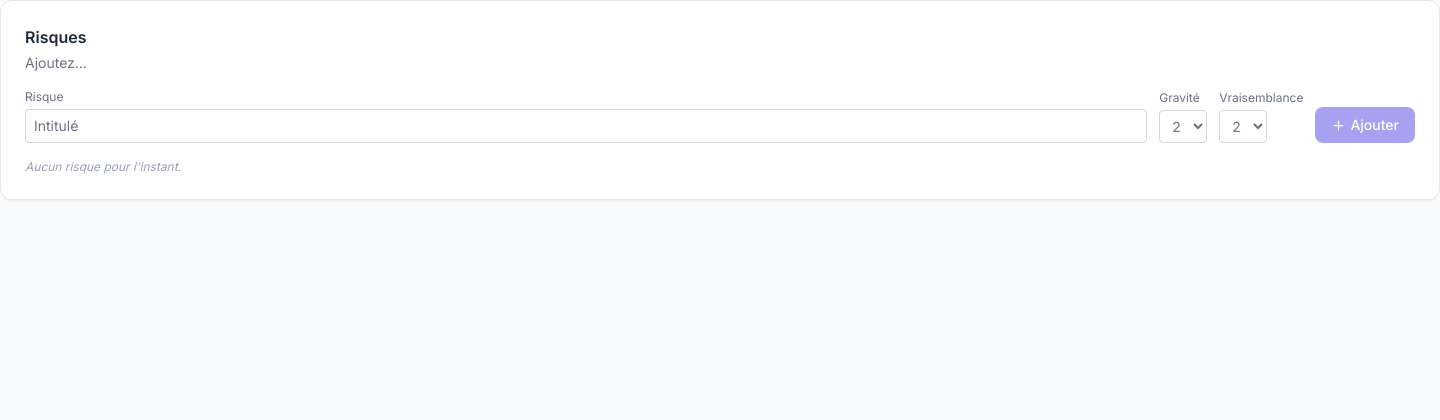
Test case: RisquesDirects › ajoute un risque (POST) puis recharge
Expected: the text "Aucun risque pour l'instant." is shown, [25,159,181,174]
Type "Fuite de données" into the field with placeholder "Intitulé" at (586, 126), box [25,109,1147,143]
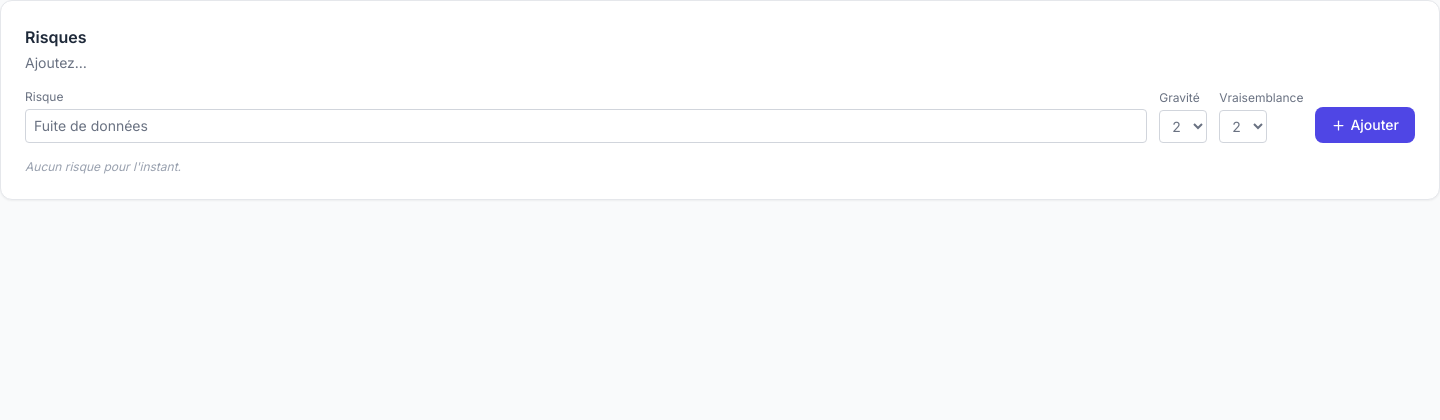
Click the button "Ajouter" at (1365, 125), box [1315,107,1415,143]
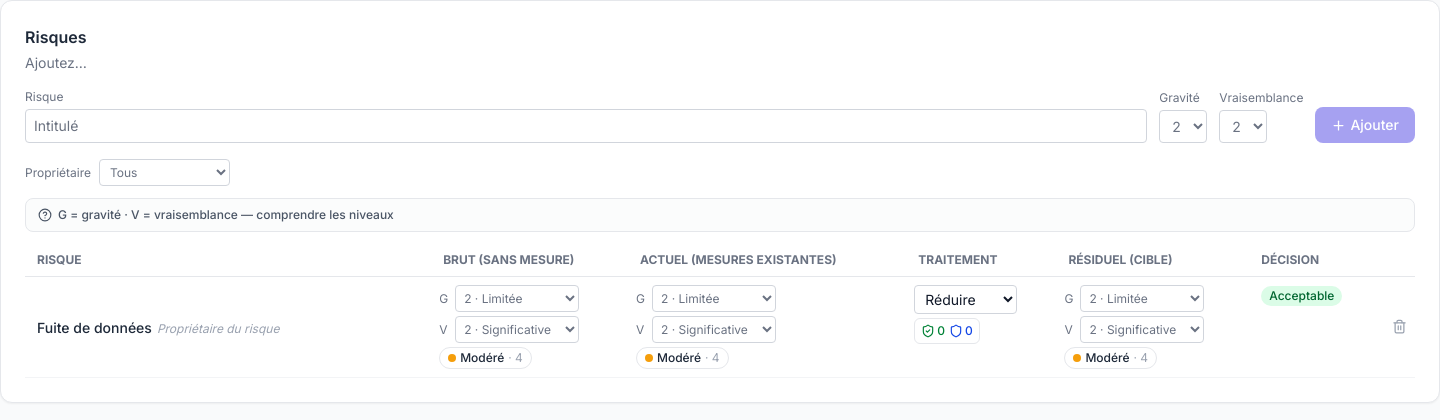
Expected: the text "Fuite de données" is shown, [37,314,419,340]
